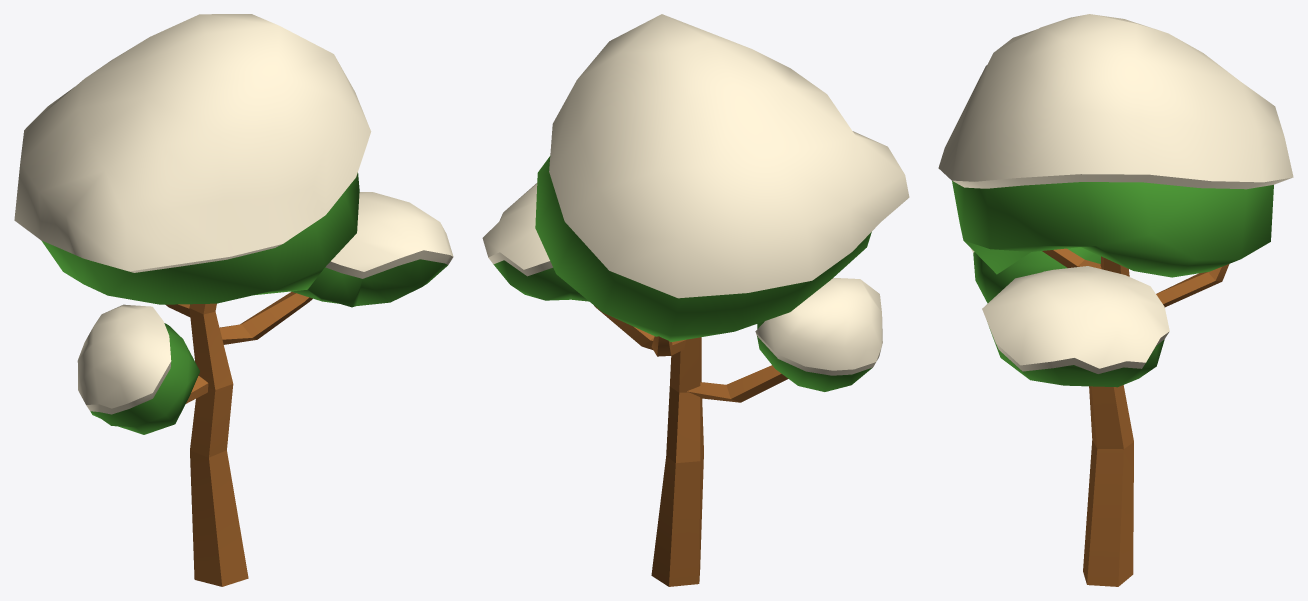
The model's file is Tree_19_Winter.fbx.
3 views of the same model, side by side, from view 1: azimuth 30°, elevation 25°; view 2: azimuth 150°, elevation 25°; view 3: azimuth 270°, elevation 25° (orthographic). The views are drawn at different scales.
Parts seen in each view (by area): view 1: Tree_19_p2_Winter, Tree_19_p1_Winter; view 2: Tree_19_p2_Winter, Tree_19_p1_Winter; view 3: Tree_19_p2_Winter, Tree_19_p1_Winter.
Boxes of the visible parts, box(x1,y1,x2,y2) form: Tree_19_p2_Winter: box(14, 14, 453, 434); Tree_19_p1_Winter: box(165, 291, 312, 586); Tree_19_p2_Winter: box(482, 14, 909, 391); Tree_19_p1_Winter: box(594, 305, 788, 586); Tree_19_p2_Winter: box(938, 14, 1293, 387); Tree_19_p1_Winter: box(1042, 248, 1229, 586).
Size of the model in its own units: 342 by 469 by 273.
